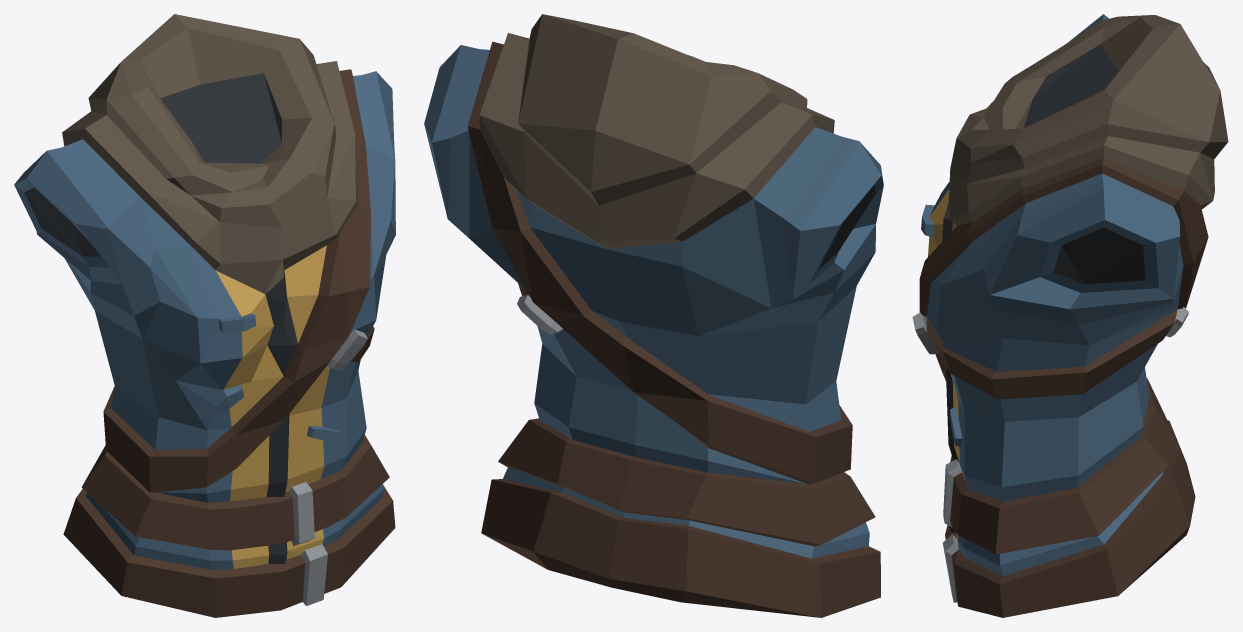
The model's file is Chr_Torso_Female_07_Static.fbx.
3 views of the same model, side by side, from view 1: azimuth 30°, elevation 25°; view 2: azimuth 150°, elevation 25°; view 3: azimuth 270°, elevation 25° (orthographic). The views are drawn at different scales.
Parts seen in each view (by area): view 1: Chr_Torso_Female_07_Static; view 2: Chr_Torso_Female_07_Static; view 3: Chr_Torso_Female_07_Static.
Boxes of the visible parts, box(x1,y1,x2,y2) form: Chr_Torso_Female_07_Static: box(14, 14, 395, 617); Chr_Torso_Female_07_Static: box(424, 14, 883, 617); Chr_Torso_Female_07_Static: box(912, 14, 1228, 617).
Size of the model in its own units: 0.5172 by 0.7044 by 0.3613.
